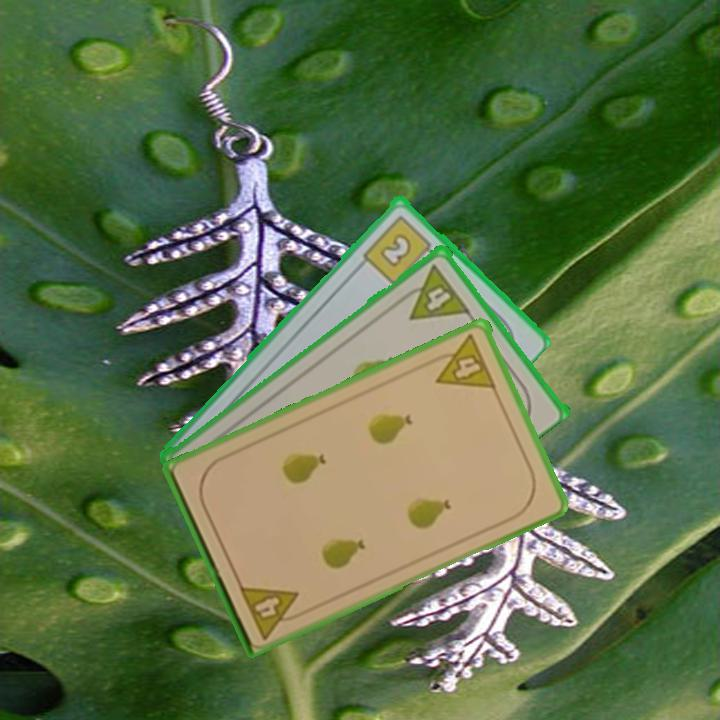2b: (359, 211, 439, 287)
4p: (395, 260, 472, 323), (425, 330, 499, 392), (235, 581, 309, 642)
